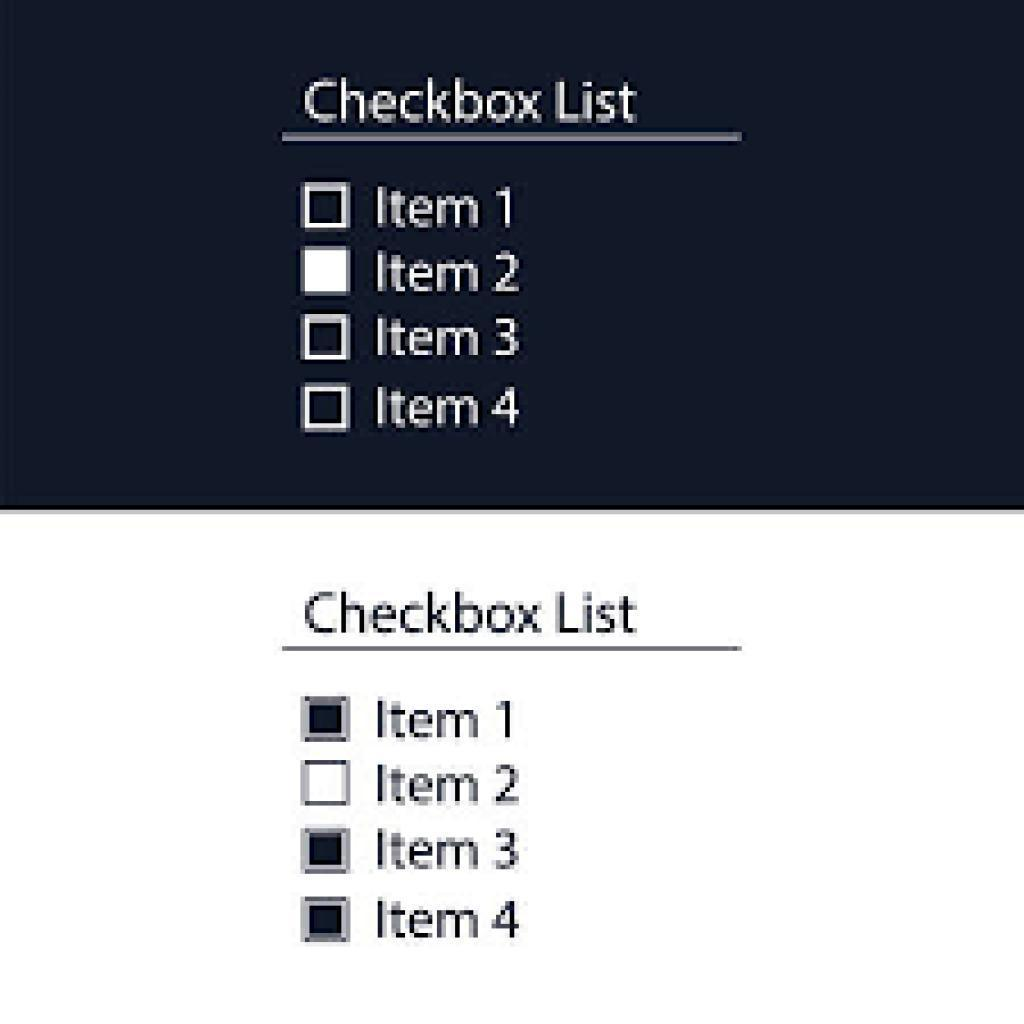checkbox: (301, 182, 350, 231), (300, 828, 353, 873), (301, 315, 351, 362), (302, 385, 351, 432), (301, 696, 352, 741), (303, 248, 352, 294), (302, 898, 352, 943), (302, 761, 353, 804)
label: (370, 692, 529, 748), (368, 180, 523, 235), (372, 822, 524, 877), (371, 894, 525, 948), (370, 384, 529, 436), (370, 248, 526, 300), (370, 312, 525, 364), (375, 758, 524, 810)
